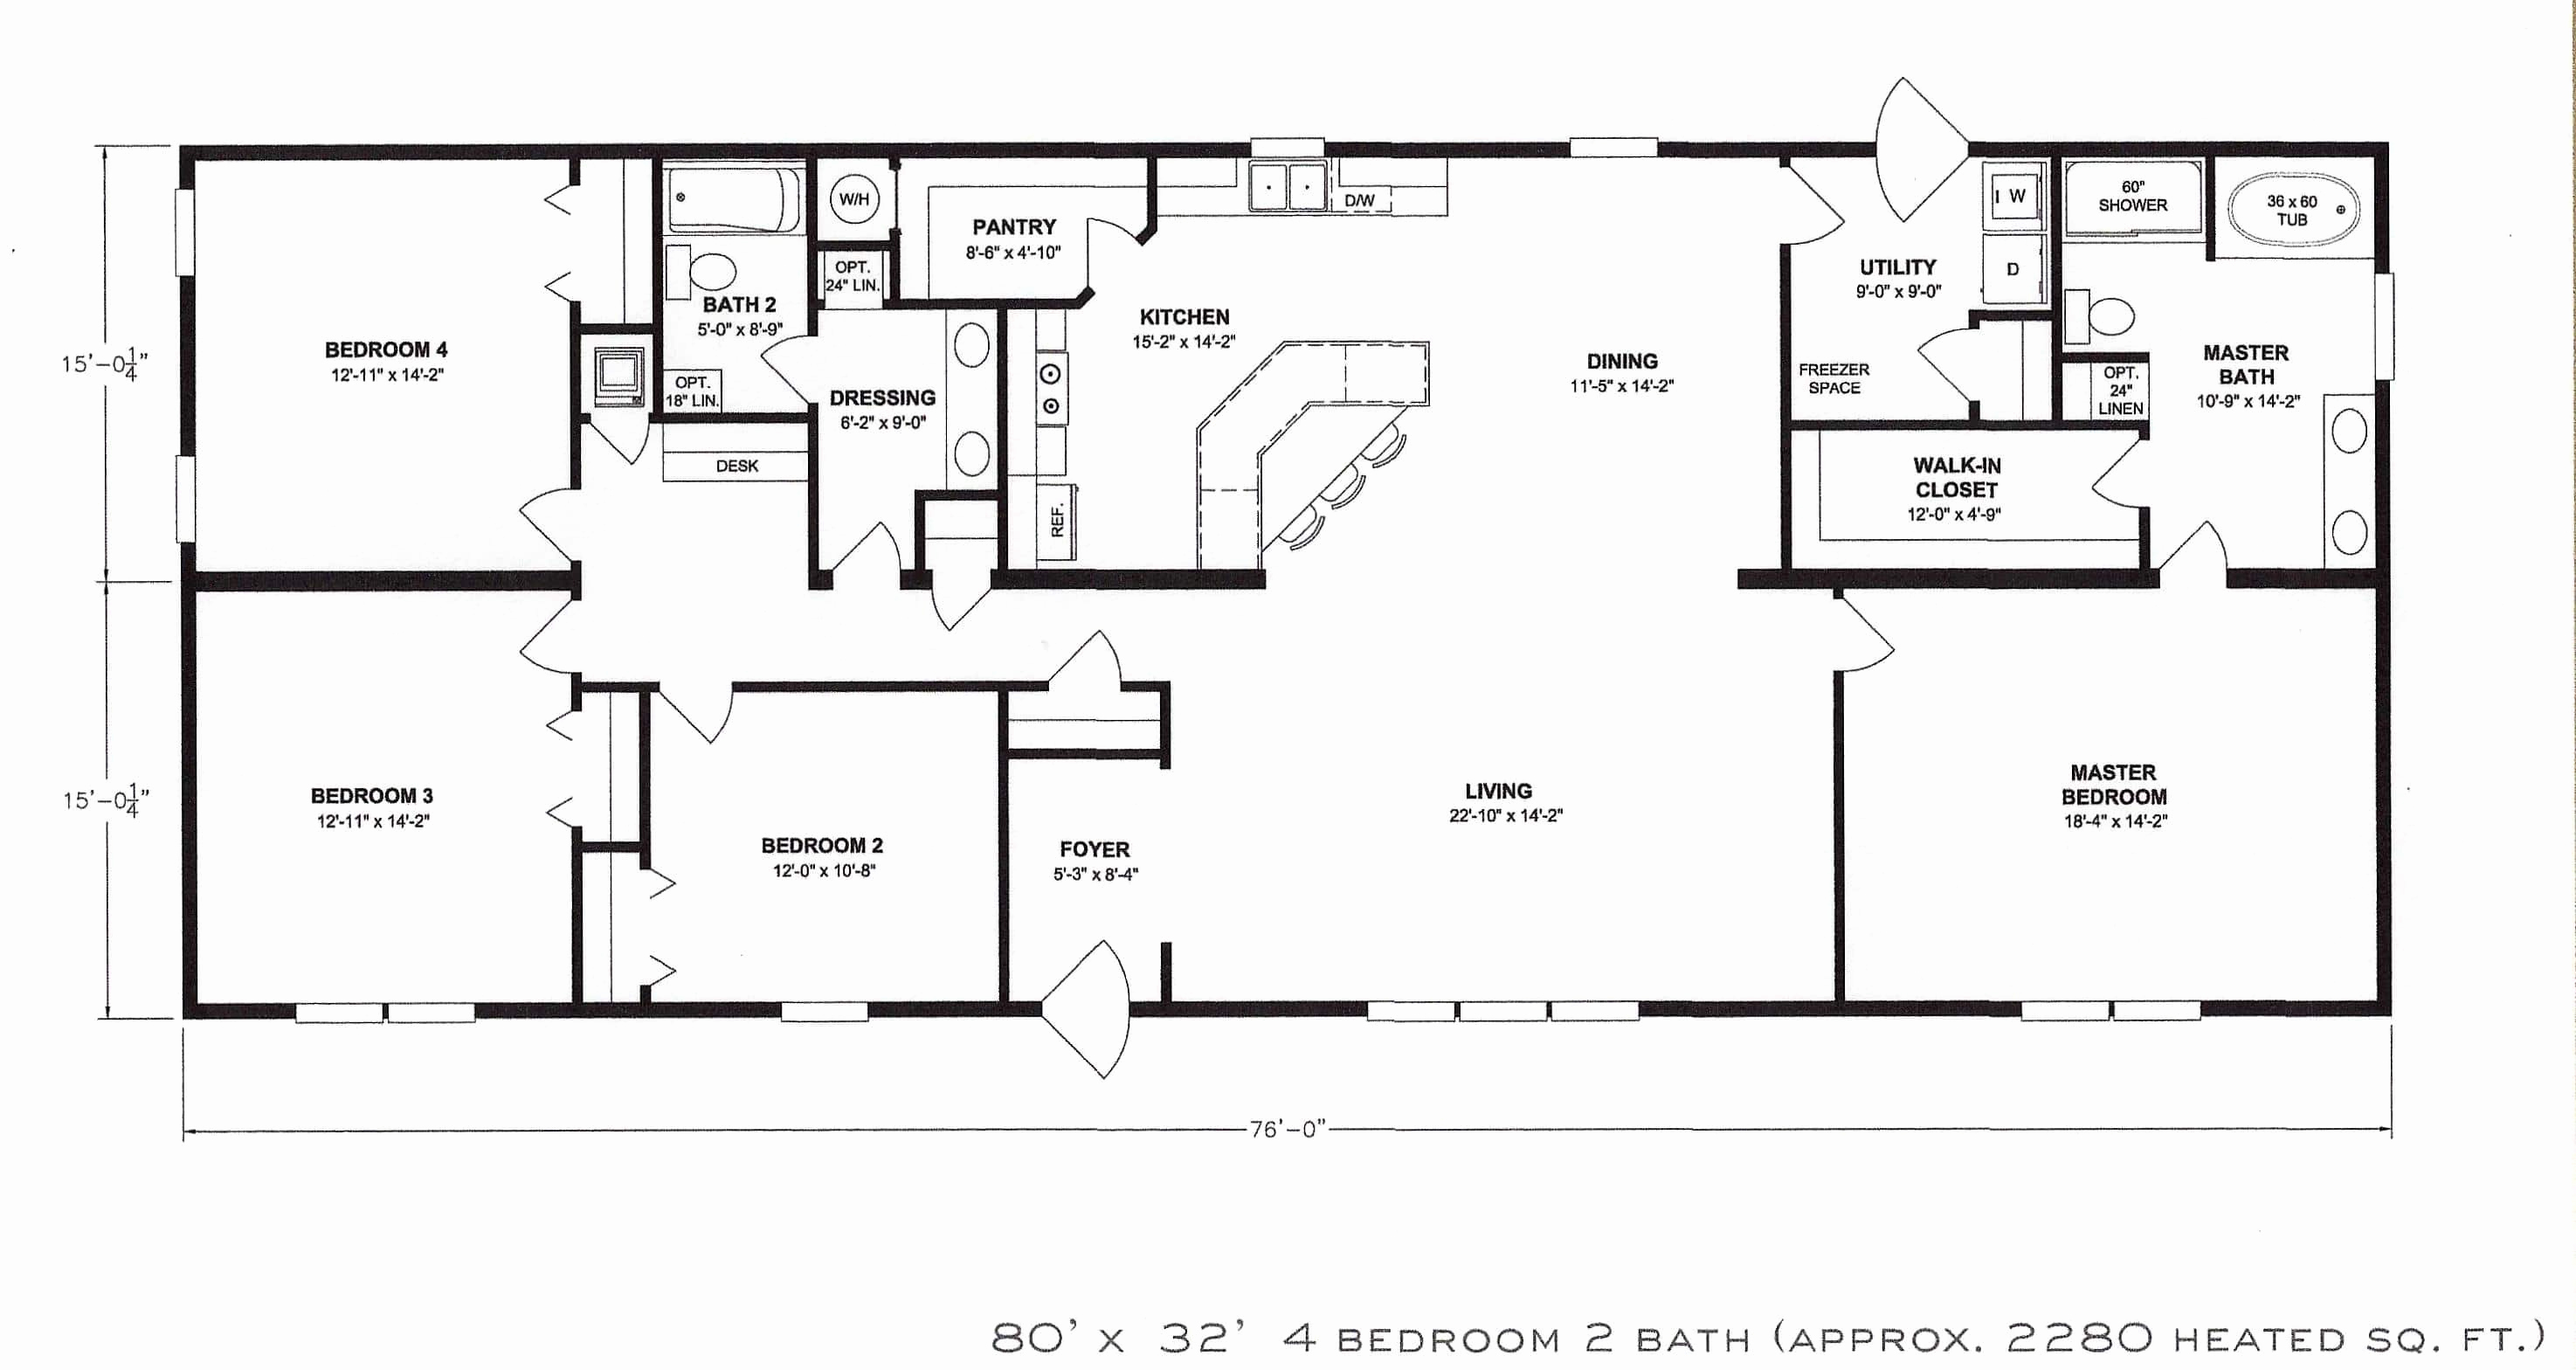room: (867, 1004, 1000, 1017), (2055, 416, 2150, 428), (995, 501, 1009, 574), (1014, 295, 1075, 310), (1003, 680, 1051, 688), (641, 981, 647, 1005)
wall: (1789, 566, 2155, 590), (189, 140, 578, 162), (181, 542, 199, 997), (193, 573, 576, 591), (1000, 566, 1268, 591), (2215, 562, 2387, 590), (816, 148, 1153, 162), (1170, 999, 1360, 1021), (174, 273, 198, 445), (2046, 133, 2058, 423), (998, 763, 1012, 1016), (1155, 135, 1256, 169), (569, 825, 588, 1005), (1777, 428, 1799, 573), (1847, 997, 2015, 1016), (1000, 745, 1182, 762), (1806, 414, 1969, 433), (637, 680, 654, 857), (1775, 247, 1792, 423), (586, 1000, 779, 1016), (1842, 676, 1850, 1017), (1339, 140, 1574, 152), (2199, 133, 2220, 268), (1653, 143, 1881, 155), (2196, 1004, 2394, 1017), (2368, 143, 2389, 273), (654, 150, 668, 315), (578, 141, 671, 165), (998, 305, 1010, 489), (671, 143, 799, 160), (2378, 584, 2383, 1004), (2375, 389, 2385, 579), (736, 683, 1010, 690), (569, 676, 653, 699), (2208, 140, 2387, 150), (889, 300, 1022, 314), (571, 307, 581, 482), (647, 336, 668, 421), (191, 1004, 296, 1019), (658, 412, 813, 423), (1971, 141, 2055, 160), (479, 1000, 579, 1016), (1160, 939, 1177, 1029), (910, 501, 925, 595), (1641, 1005, 1850, 1012), (1728, 566, 1787, 590), (583, 837, 647, 857), (811, 140, 818, 331), (920, 486, 998, 501), (995, 695, 1014, 753), (2140, 511, 2155, 576), (576, 325, 658, 337), (1009, 999, 1049, 1021), (1975, 312, 2060, 322), (814, 245, 900, 256), (1128, 1000, 1179, 1016), (179, 141, 194, 191), (1126, 680, 1176, 695), (2050, 351, 2150, 358), (1162, 683, 1172, 748), (1978, 421, 2033, 433), (891, 237, 900, 310), (567, 153, 581, 193), (1968, 397, 1975, 424)
